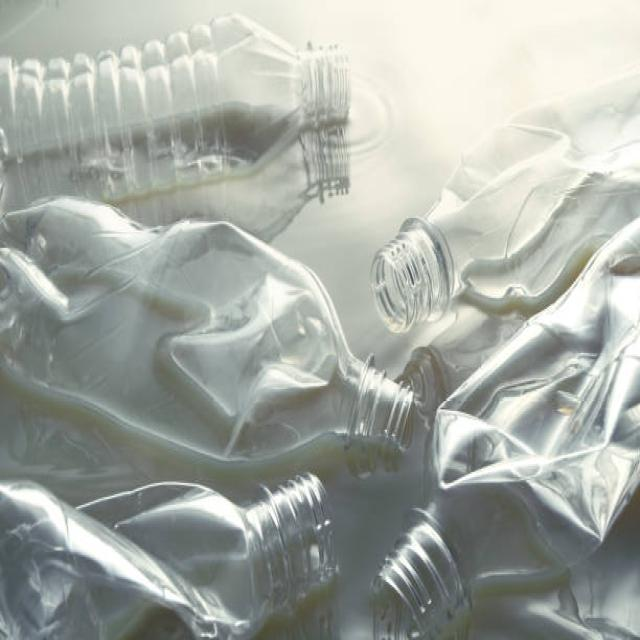plastic: (19, 19, 390, 448)
